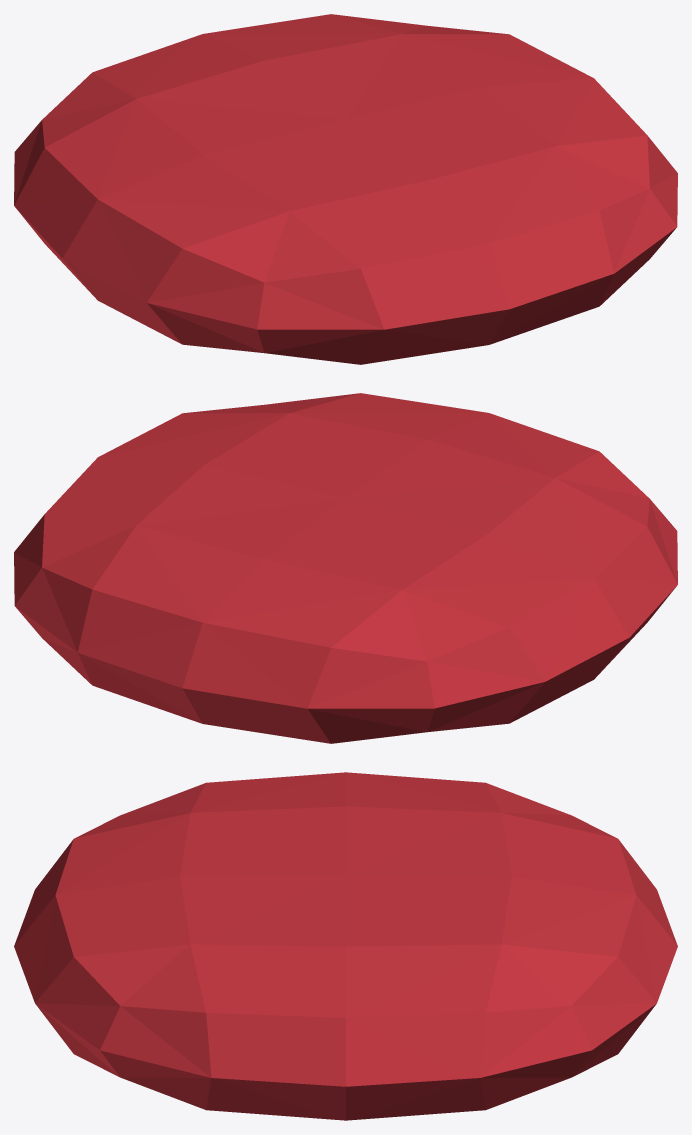
The model's file is BurgerPatty_Raw.obj.
3 views of the same model, one above another, from view 1: azimuth 30°, elevation 25°; view 2: azimuth 150°, elevation 25°; view 3: azimuth 270°, elevation 25° (orthographic).
Visible parts, largest first — view 1: BurgerPatty_Raw; view 2: BurgerPatty_Raw; view 3: BurgerPatty_Raw.
Boxes of the visible parts, x1=… form: BurgerPatty_Raw: x1=14, y1=14, x2=677, y2=364; BurgerPatty_Raw: x1=14, y1=393, x2=677, y2=743; BurgerPatty_Raw: x1=14, y1=772, x2=677, y2=1120.
Size of the model in its own units: 1.43 by 0.3364 by 1.43.
